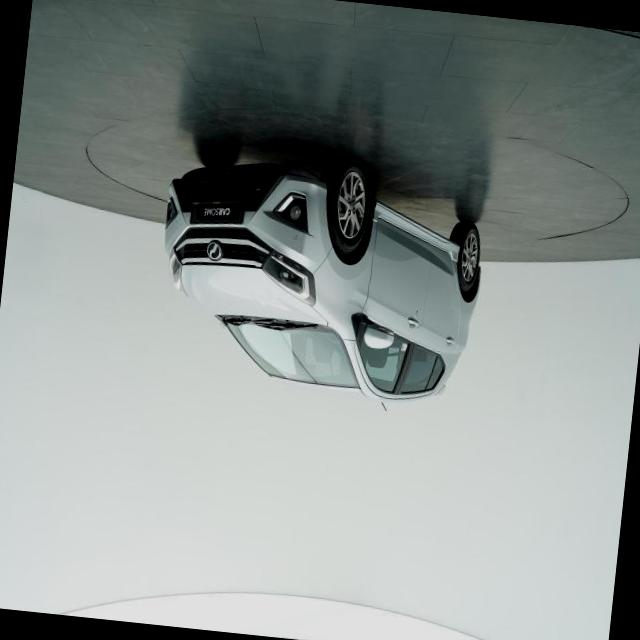PeroduaAxia: (146, 136, 493, 420)
